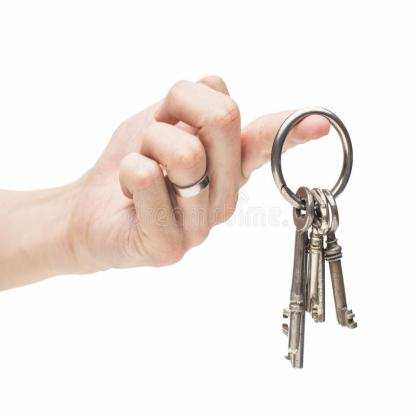keys: (280, 175, 360, 369)
